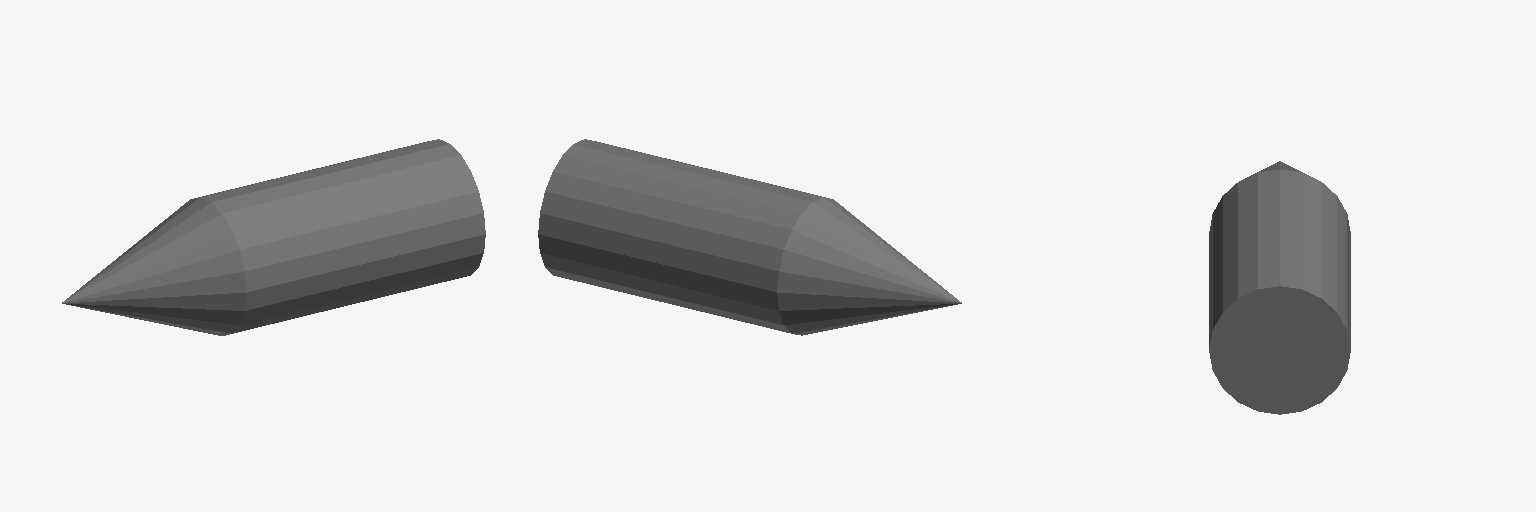
The model's file is nail.obj.
3 renders of one model, left to right at view 1: azimuth 30°, elevation 25°; view 2: azimuth 150°, elevation 25°; view 3: azimuth 270°, elevation 25°, orthographic.
Visible parts, largest first — view 1: nail; view 2: nail; view 3: nail.
Boxes of the visible parts, x1,y1,x2,y2 form: nail: [62, 139, 485, 335]; nail: [538, 139, 961, 335]; nail: [1209, 161, 1350, 414].
Size of the model in its own units: 4.2 by 1.34 by 1.33.